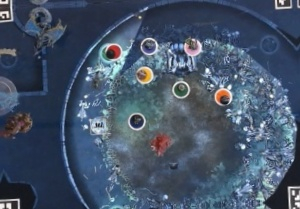blue: (119, 108, 149, 134)
green: (171, 77, 194, 99)
orange: (214, 85, 234, 107)
pink: (181, 37, 203, 57)
red: (103, 41, 124, 61)
violet: (139, 35, 159, 54)
yellow: (129, 63, 158, 85)
